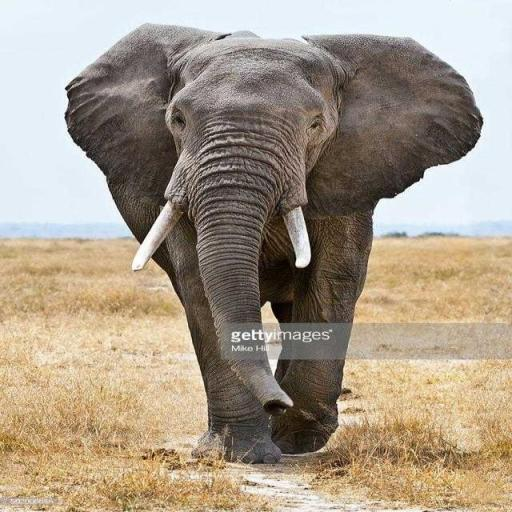Elephant: (62, 22, 484, 464)
